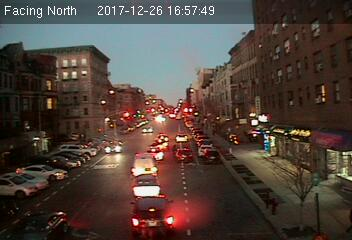car: (130, 197, 178, 232), (131, 174, 161, 197), (174, 148, 194, 163), (145, 146, 164, 160), (104, 141, 124, 154), (203, 149, 221, 162), (174, 133, 189, 143)
truck: (132, 151, 158, 176)
